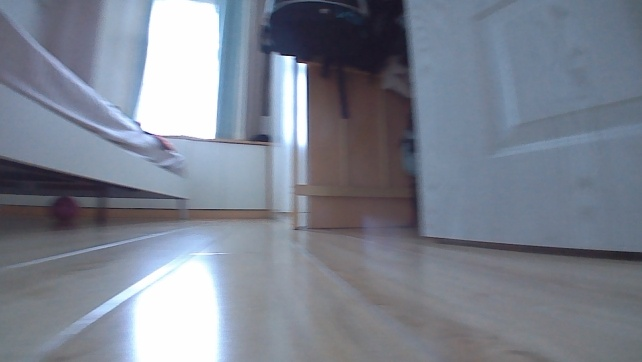bed1: (0, 8, 195, 223)
